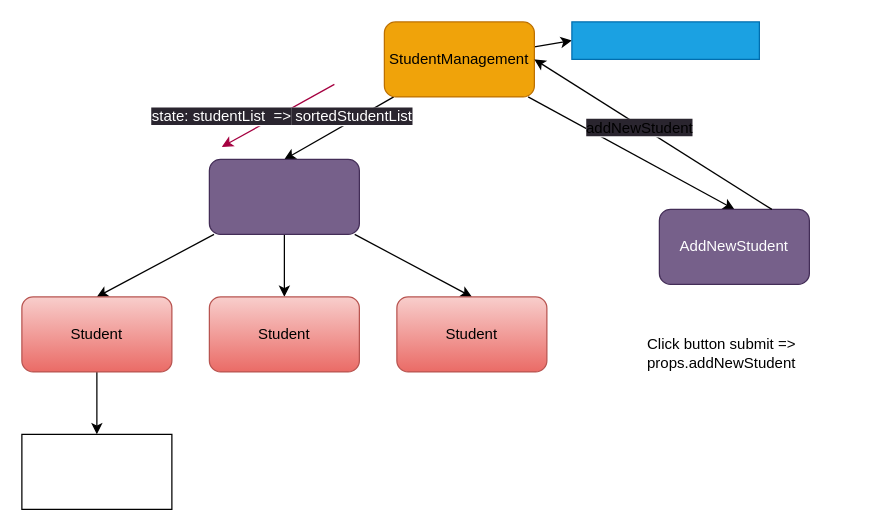
The diagram is 869 pixels wide and 531 high, and some of its shapes have lost their labels. Here are the shapes that lost their labels. From the top down, the centre of each, then its label:
At point (665, 40): "state: studentList".
At point (283, 196): "StudentTable".
At point (96, 471): "Button Delete".
